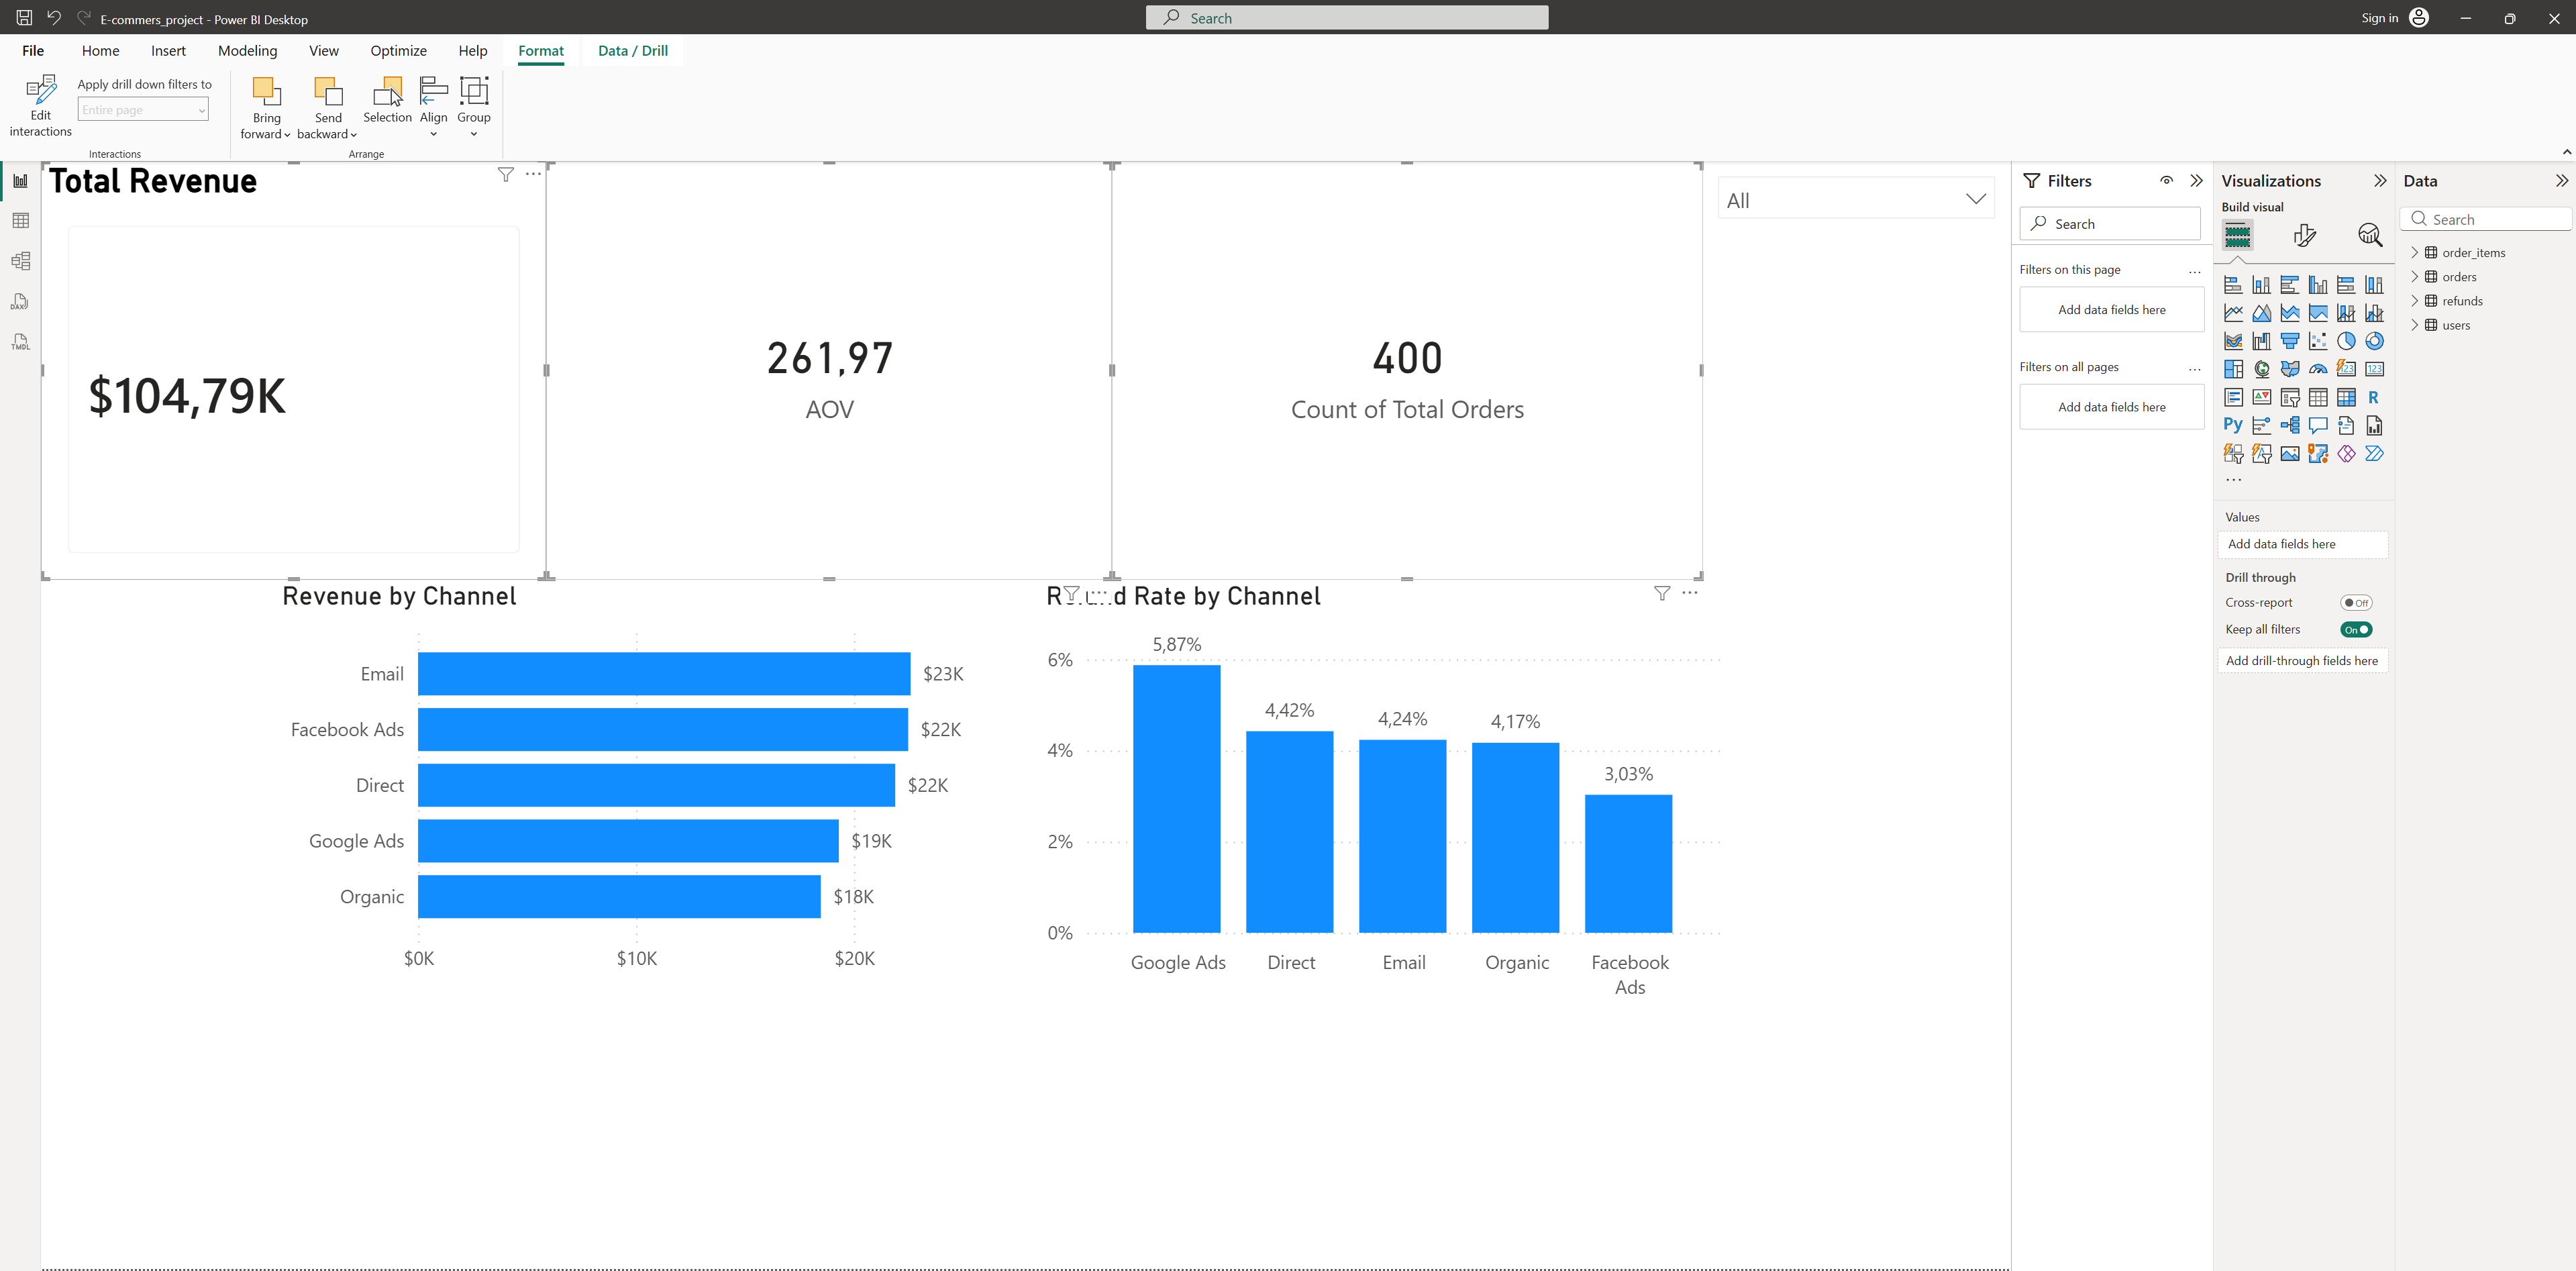

The dashboard page shown, as its layout file describes it:
{"tool":"powerbi","page":{"name":"Page 1","canvas":[1280,720],"ordinal":0},"visuals":[{"type":"cardVisual","title":"Total Revenue","fields":{"Data":["Sum(orders.total_amount)"]},"box":[0,0,328,272],"z":0},{"type":"card","fields":{"Values":["CountNonNull(orders.order_id)"]},"box":[696,0,384,272],"z":1000},{"type":"card","fields":{"Values":["order_items.AOV"]},"box":[328,0,368,272],"z":2000},{"type":"clusteredBarChart","title":"Revenue by Channel ","fields":{"Y":["Sum(orders.total_amount)"],"Category":["orders.channel"]},"box":[152,272,480,264],"z":3000},{"type":"clusteredColumnChart","title":"Refund Rate by Channel","fields":{"Y":["order_items.Refund Rate"],"Category":["orders.channel"]},"box":[648,272,448,280],"z":4000},{"type":"slicer","fields":{"Values":["orders.order_date"]},"box":[1080,0,200,40],"z":5000}]}

Visuals, with their boxes on the page's 1280x720 design canvas (x1, y1, x2, y2). These are canvas units, not pixel positions in the 2576x1271 screenshot, which may show the page scaled, cropped or inside an application window:
"Total Revenue" cardVisual: {"left": 0, "top": 0, "right": 328, "bottom": 272}
card - CountNonNull(orders.order_id): {"left": 696, "top": 0, "right": 1080, "bottom": 272}
card - order_items.AOV: {"left": 328, "top": 0, "right": 696, "bottom": 272}
"Revenue by Channel " clusteredBarChart: {"left": 152, "top": 272, "right": 632, "bottom": 536}
"Refund Rate by Channel" clusteredColumnChart: {"left": 648, "top": 272, "right": 1096, "bottom": 552}
slicer - orders.order_date: {"left": 1080, "top": 0, "right": 1280, "bottom": 40}
